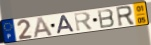2: (16, 18, 34, 41)
A: (33, 16, 54, 39), (56, 14, 76, 35)
B: (96, 8, 116, 30)
R: (115, 5, 136, 28), (73, 11, 94, 33)
